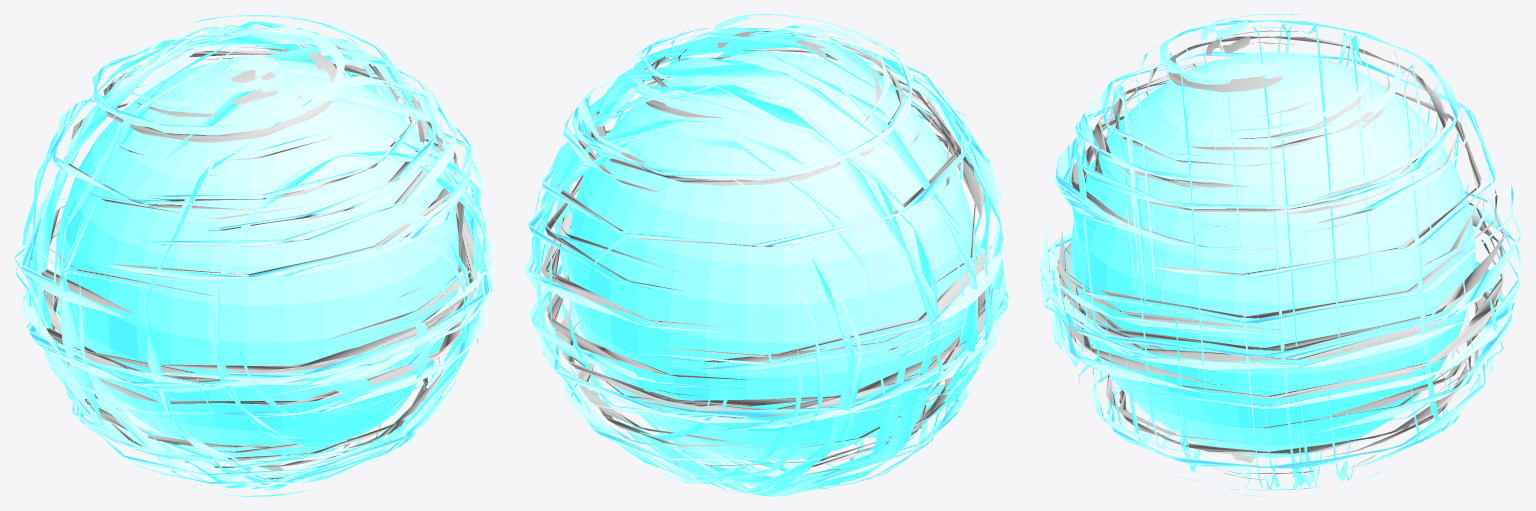
The model's file is Blue.fbx.
3 renders of one model, left to right at view 1: azimuth 30°, elevation 25°; view 2: azimuth 150°, elevation 25°; view 3: azimuth 270°, elevation 25°, orthographic.
Visible parts, largest first — view 1: Blue; view 2: Blue; view 3: Blue.
Boxes of the visible parts, bbox=[...] form: Blue: bbox=[14, 14, 495, 496]; Blue: bbox=[524, 14, 1009, 496]; Blue: bbox=[1039, 14, 1521, 496].
Bounding box in the file's own units: 332 × 329 × 331.
